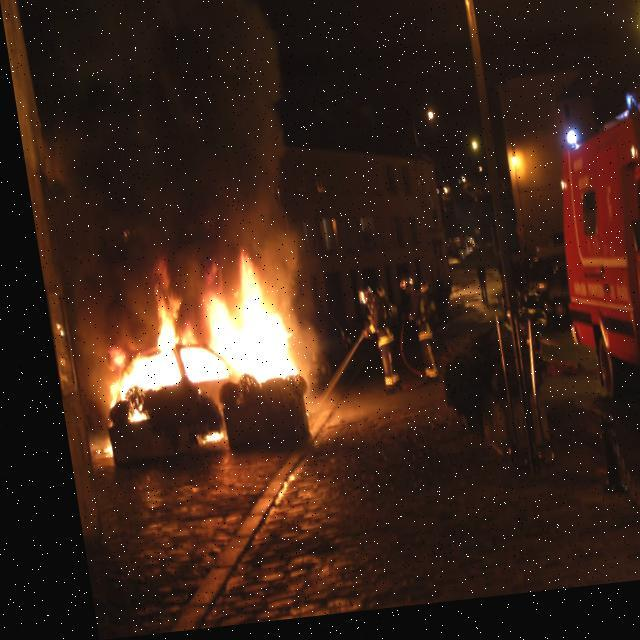Fire: (80, 250, 288, 422), (188, 428, 211, 448), (84, 442, 99, 459)
